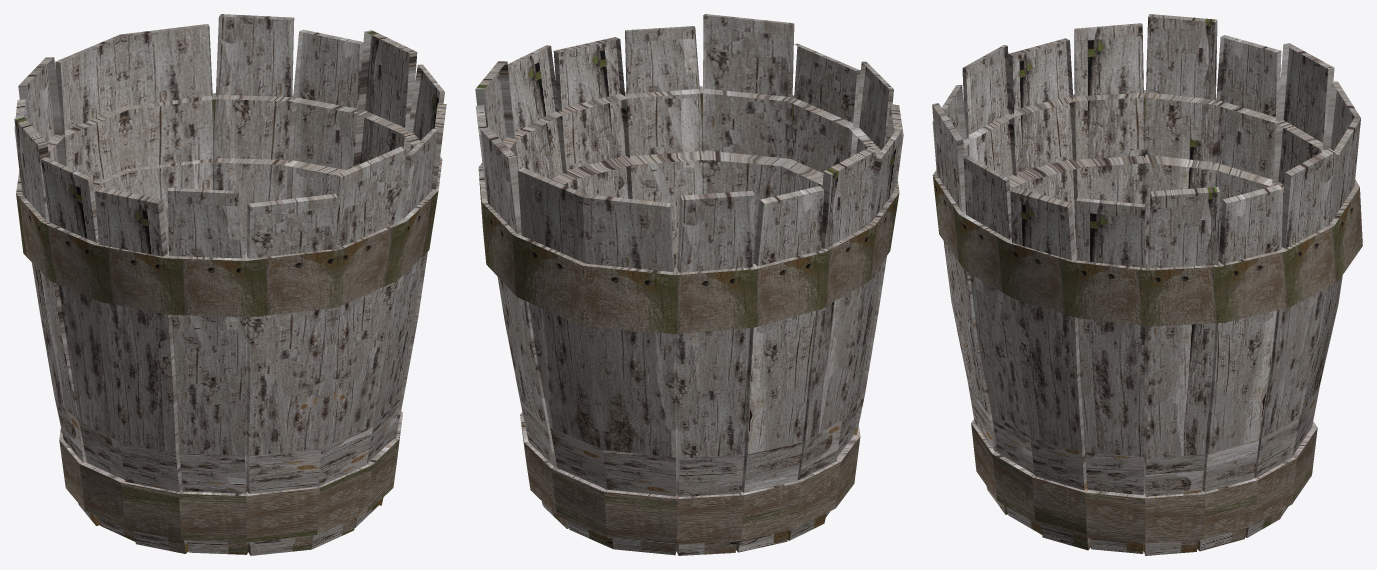
Rendered from blendergltfBigBucket.gltf.
3 views of the same model, side by side, from view 1: azimuth 30°, elevation 25°; view 2: azimuth 150°, elevation 25°; view 3: azimuth 270°, elevation 25° (orthographic).
Parts seen in each view (by area): view 1: 对象002; view 2: 对象002; view 3: 对象002.
Boxes of the visible parts, x1,y1,x2,y2 form: 对象002: (14,14,446,555); 对象002: (475,14,903,555); 对象002: (932,14,1362,555).
Size of the model in its own units: 0.725 by 0.7162 by 0.7165.
1 material, 1 textured.
